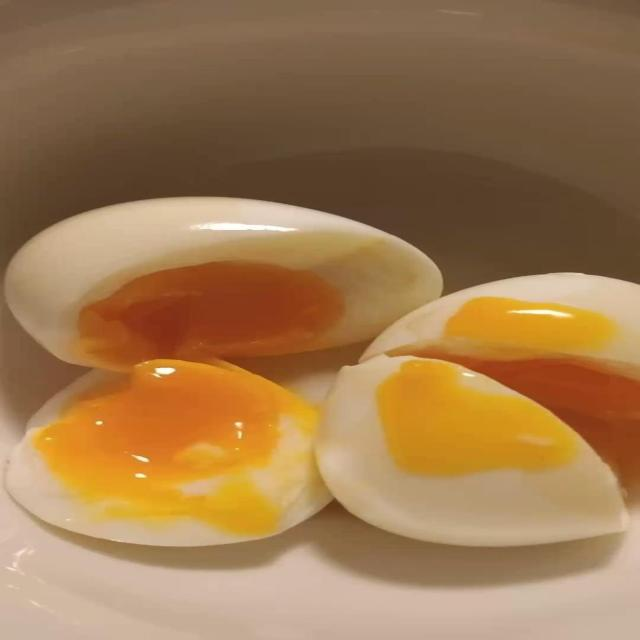eggs: (14, 202, 640, 578)
